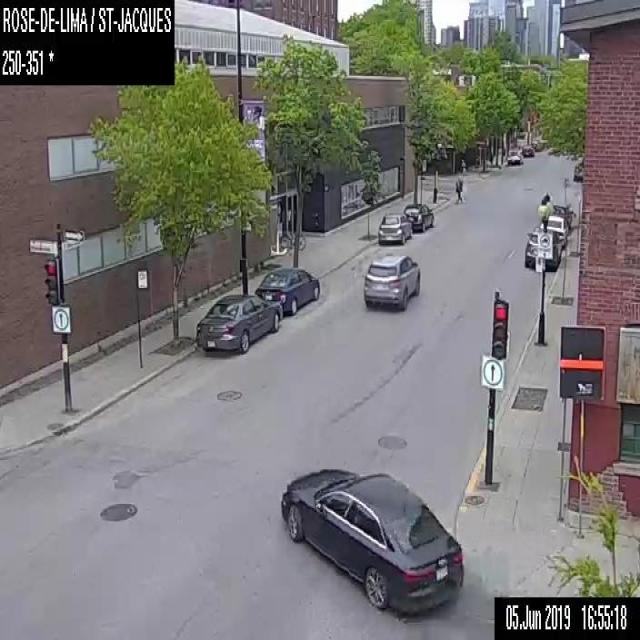pedestrian: (454, 176, 462, 203)
vehicle: (279, 465, 464, 615), (195, 291, 282, 352), (362, 252, 420, 309), (256, 265, 321, 311), (526, 225, 560, 273), (376, 213, 412, 243), (539, 214, 567, 246), (400, 203, 433, 230), (551, 202, 571, 230), (506, 147, 520, 164), (573, 155, 581, 181), (522, 143, 534, 156), (544, 231, 546, 232)
